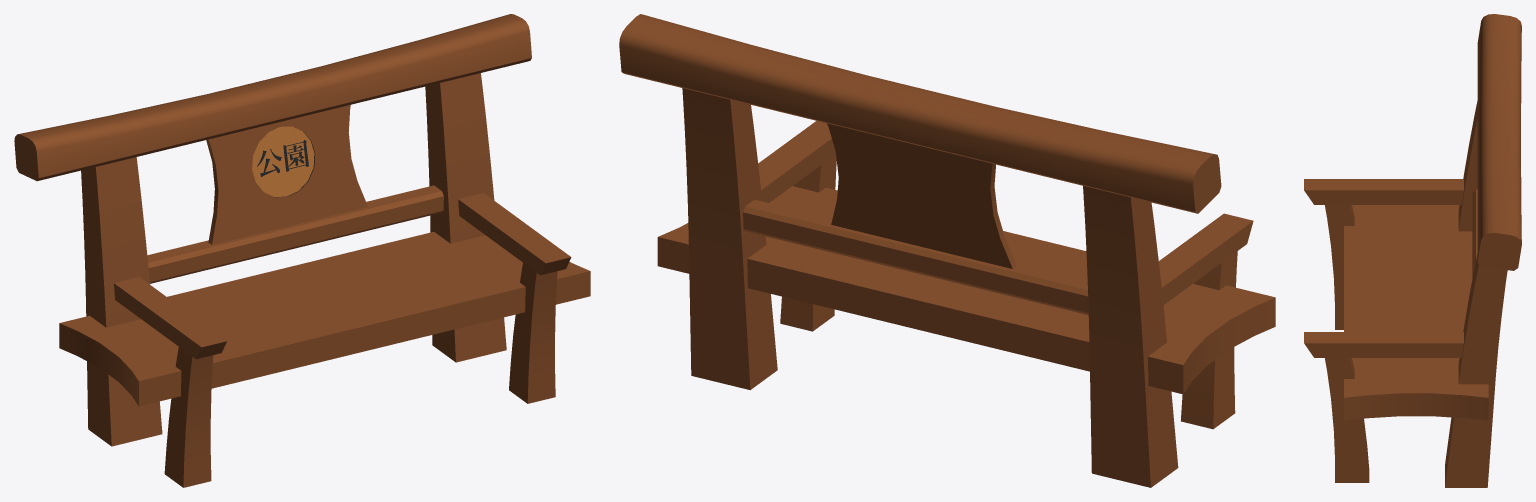
File: Bench_1.fbx
3 views of the same model, side by side, from view 1: azimuth 30°, elevation 25°; view 2: azimuth 150°, elevation 25°; view 3: azimuth 270°, elevation 25° (orthographic). The views are drawn at different scales.
Parts seen in each view (by area): view 1: Bench_1; view 2: Bench_1; view 3: Bench_1.
Boxes of the visible parts, x1,y1,x2,y2 form: Bench_1: (14,14,590,487); Bench_1: (619,14,1275,487); Bench_1: (1304,14,1521,487).
Size of the model in its own units: 169 by 98.74 by 71.11.
